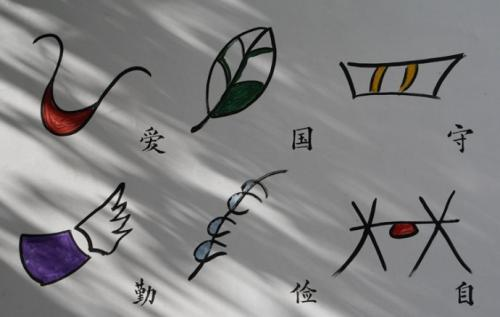chinese: (131, 119, 173, 159), (441, 118, 476, 157), (282, 276, 322, 307), (129, 273, 162, 310), (285, 122, 317, 157), (455, 279, 479, 310)
naxi: (26, 30, 151, 138), (326, 188, 474, 279), (175, 167, 291, 283), (12, 179, 135, 288), (189, 23, 282, 141), (331, 49, 466, 100)
